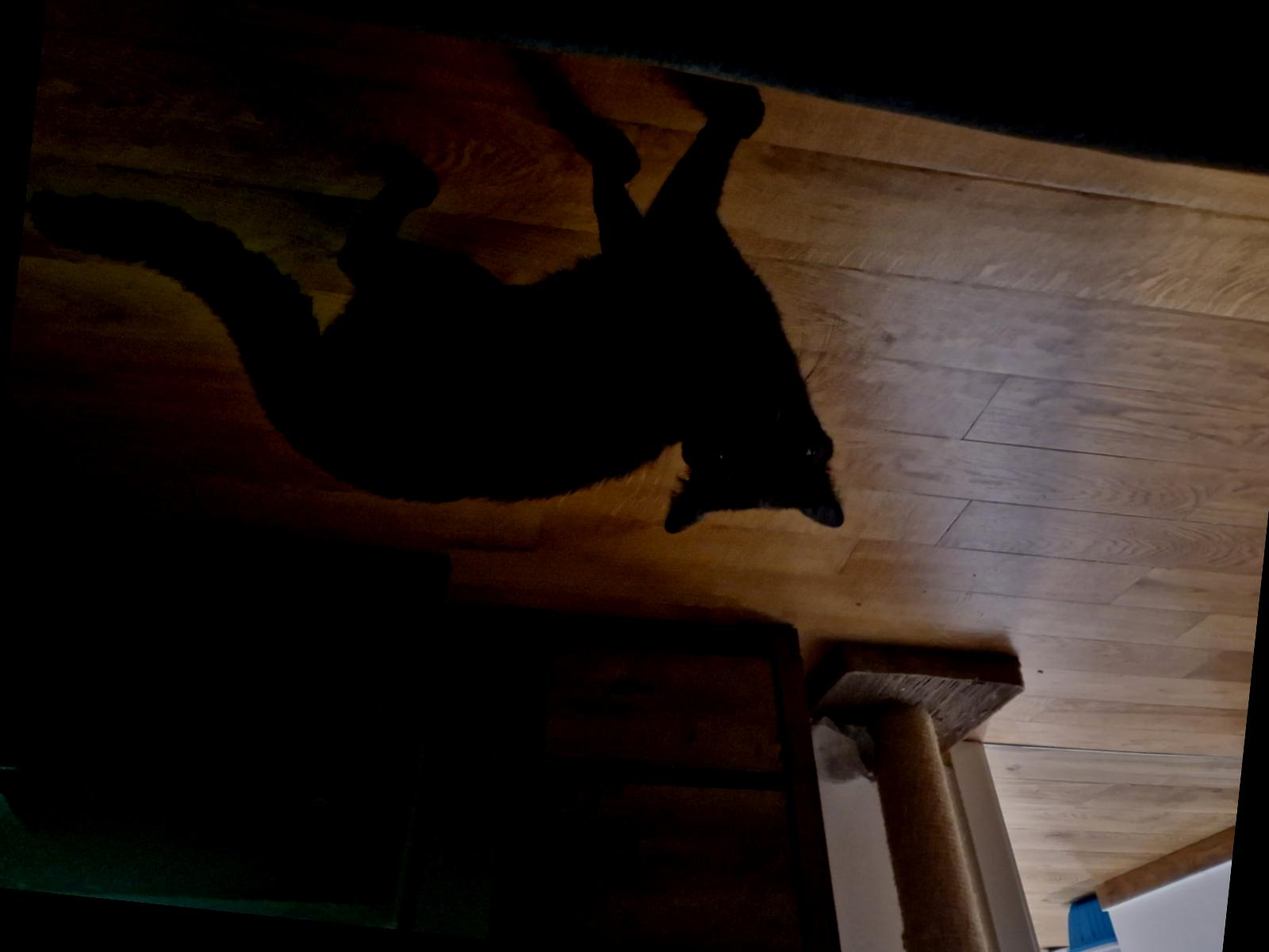macka: (5, 5, 886, 547)
